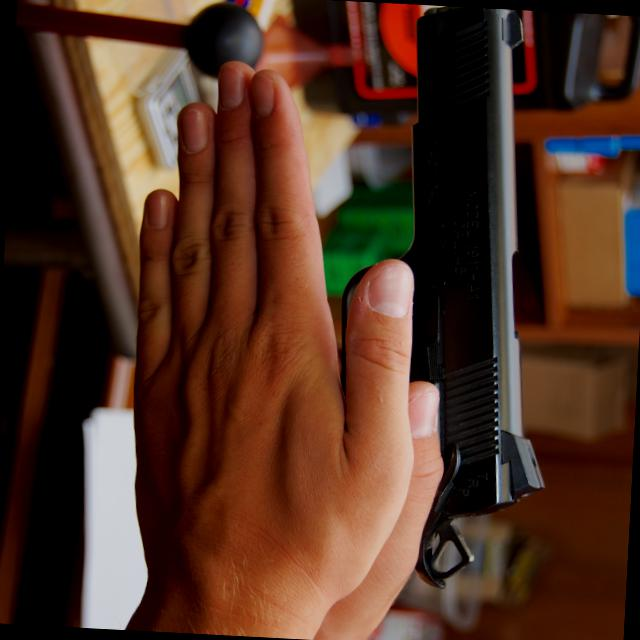handgun: (302, 2, 572, 598)
